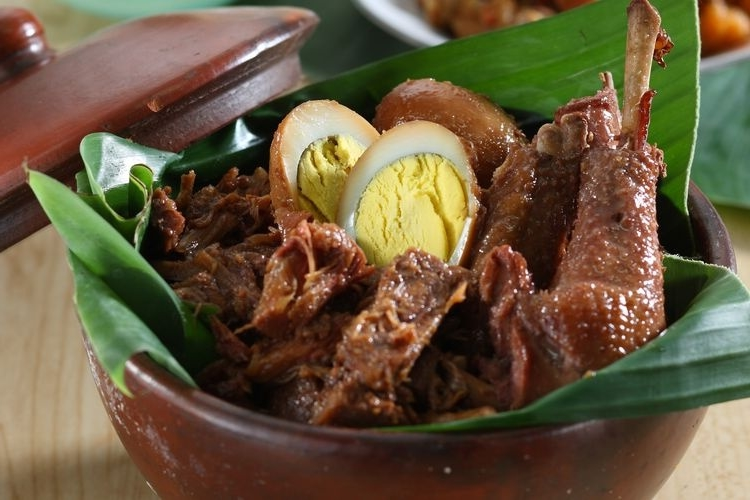gudeg: (155, 4, 667, 421)
